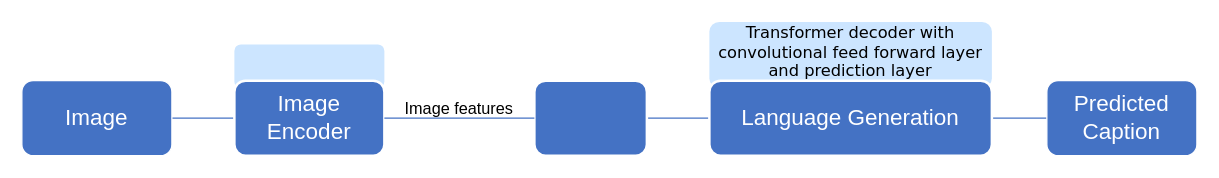
The diagram is 1219 pixels wide and 178 high, and some of its shapes have lost their labels. The centre of each missing label's shape, as x and y in pixels:
"CNN" goes at (x=309, y=66).
"Patcher" goes at (x=590, y=117).
